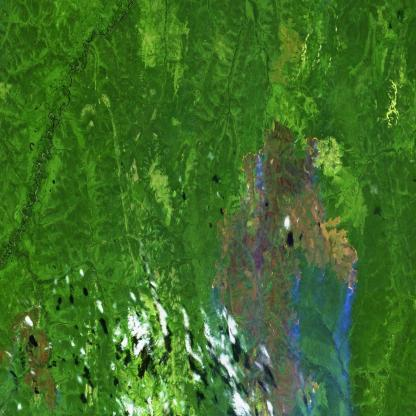fire: (205, 109, 364, 330), (304, 373, 325, 398), (49, 375, 63, 394)
